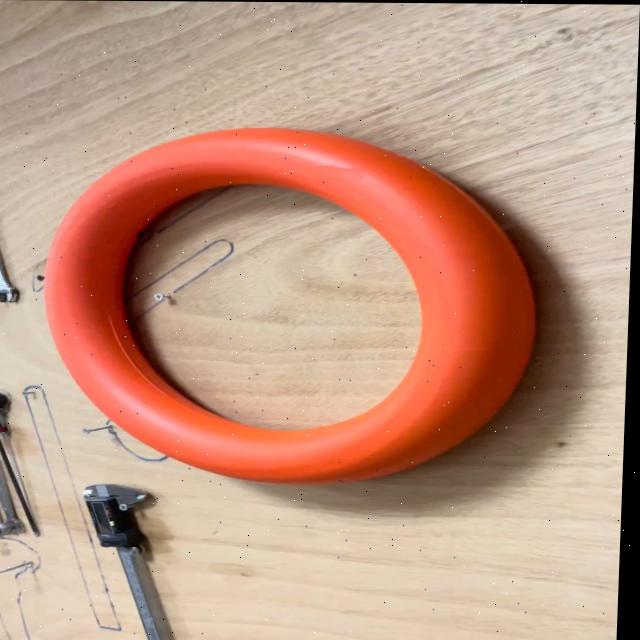note: (37, 125, 548, 487)
